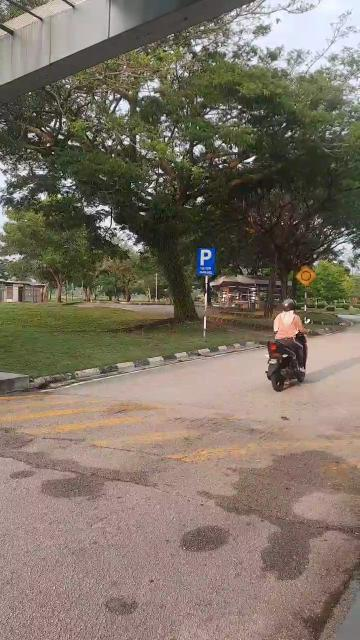motorcycle: (265, 297, 317, 398)
